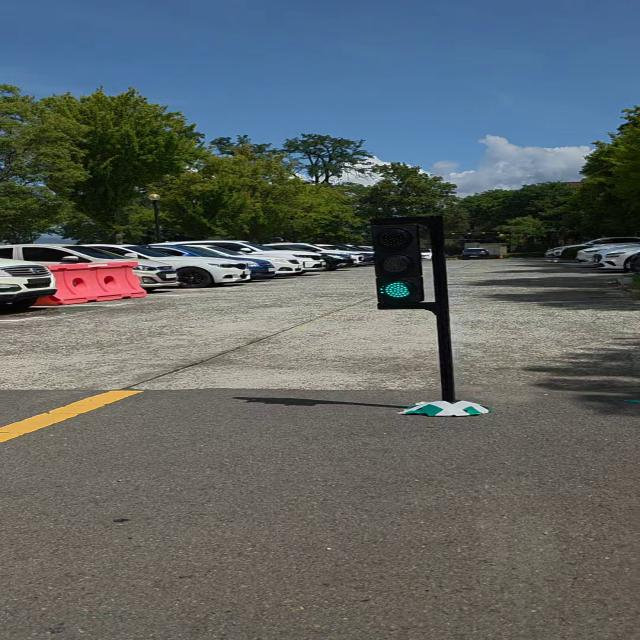green: (370, 220, 424, 307)
